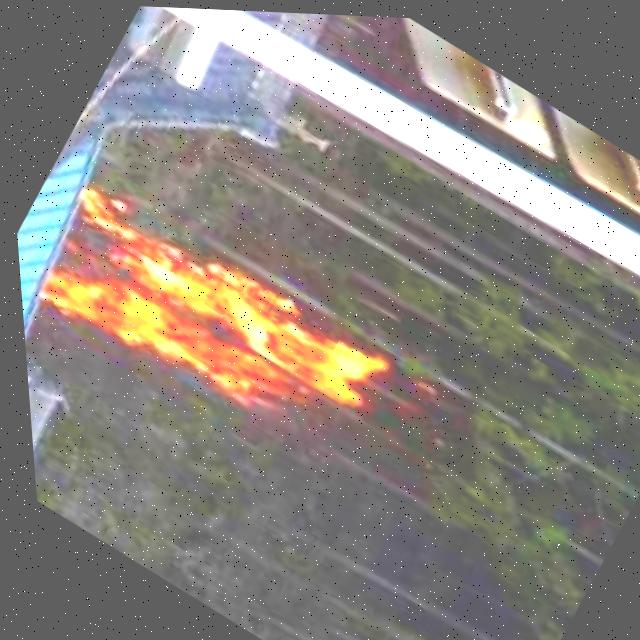Fire: (9, 152, 401, 476)
